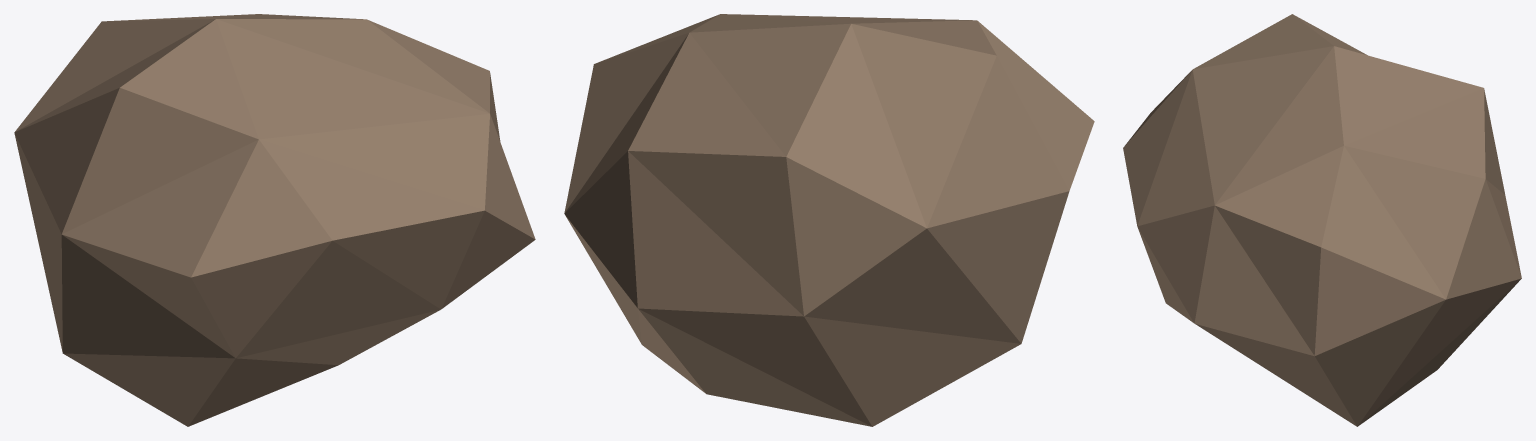
Rendered from stone2.obj.
3 views of the same model, side by side, from view 1: azimuth 30°, elevation 25°; view 2: azimuth 150°, elevation 25°; view 3: azimuth 270°, elevation 25° (orthographic). The views are drawn at different scales.
Visible parts, largest first — view 1: stone03; view 2: stone03; view 3: stone03.
Part boxes in pixels (bbox=[...]): stone03: bbox=[14, 14, 535, 426]; stone03: bbox=[564, 14, 1094, 426]; stone03: bbox=[1123, 14, 1521, 426].
Size of the model in its own units: 5.41 by 4.01 by 4.79.
